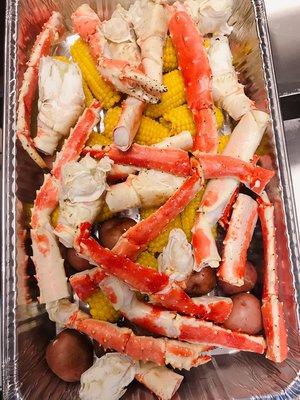burger: (29, 32, 292, 398)
pizza: (168, 11, 218, 154)
